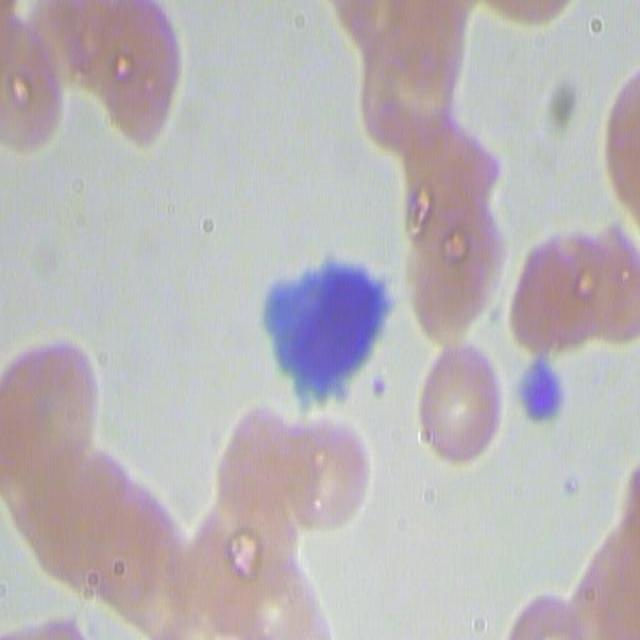RBC: (185, 402, 307, 630), (43, 0, 185, 142), (249, 260, 390, 397), (348, 0, 468, 150), (508, 222, 638, 360), (402, 198, 508, 348), (3, 334, 103, 484), (391, 120, 500, 238), (410, 344, 508, 466), (282, 413, 370, 542), (571, 501, 640, 639), (232, 557, 333, 640), (604, 59, 640, 252), (466, 0, 585, 32)
platelets: (510, 350, 571, 435)
